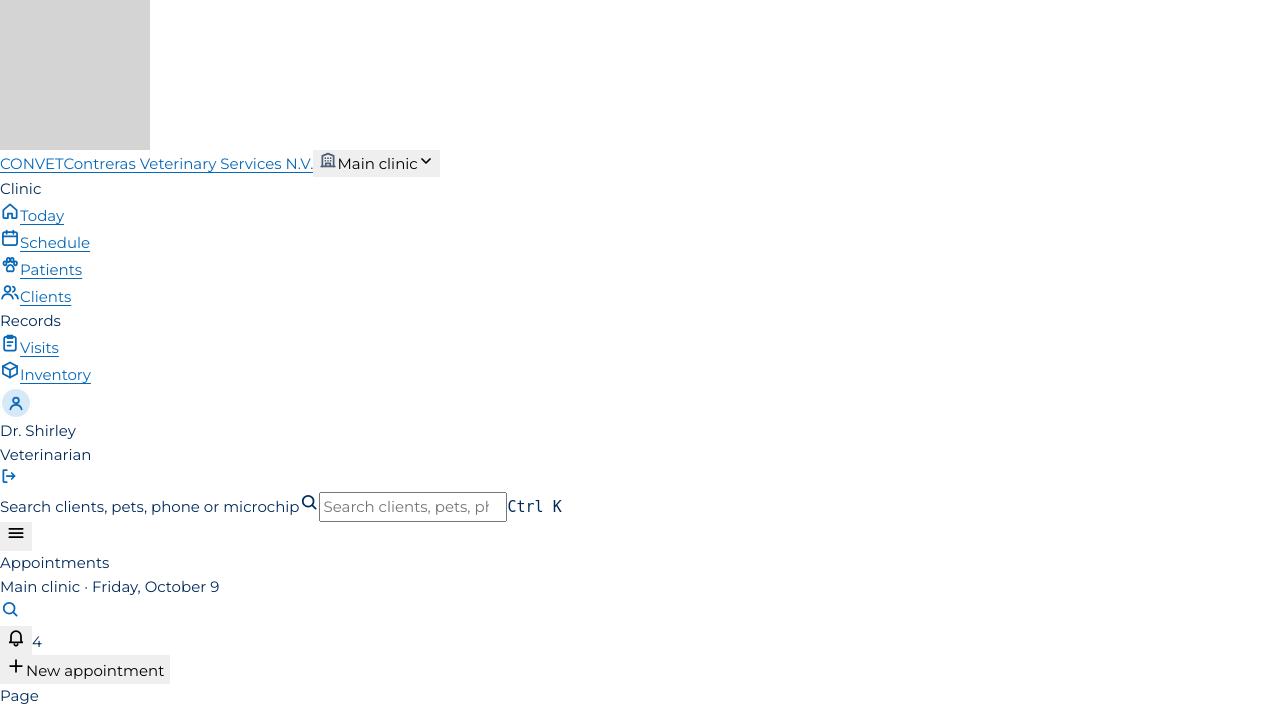
Test case: StaffShell › opens the menu with the same links on small screens
This screenshot has width=1280, height=720.
Click the button named "Menu": {"x": 16, "y": 536} [0,522,32,551]
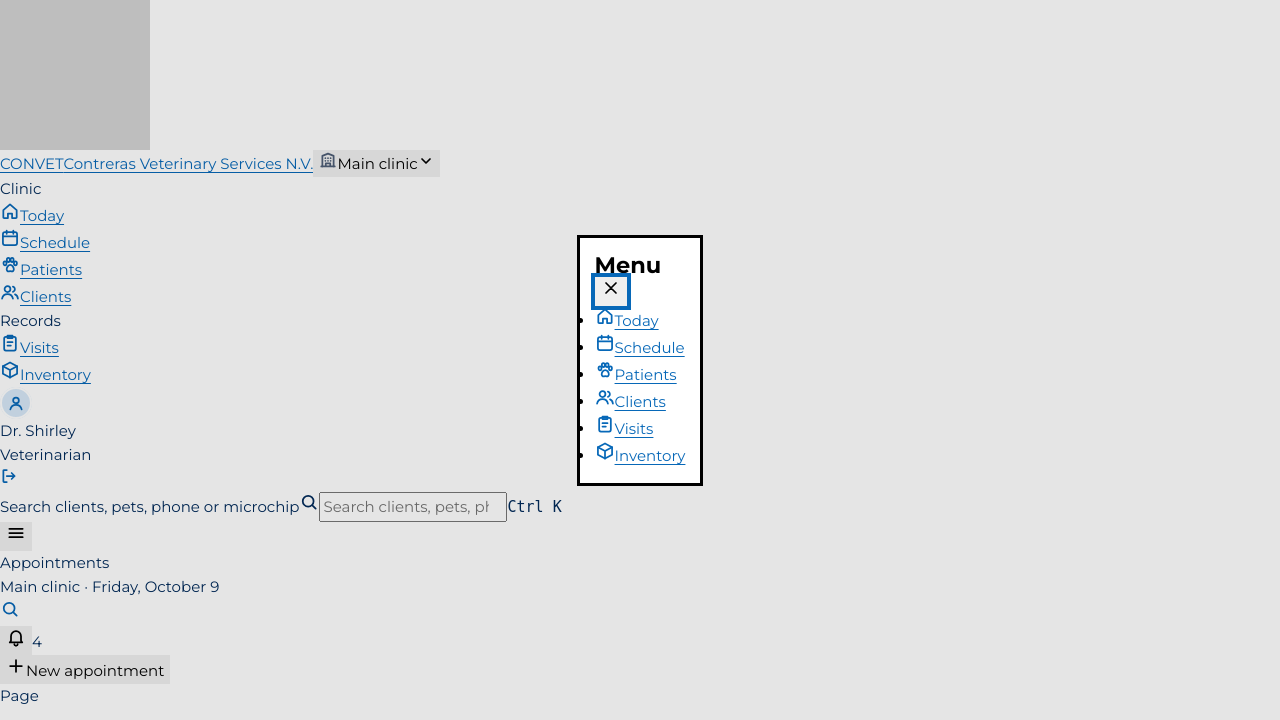
Expected: the dialog "Menu" is shown, [576,234,703,486]
